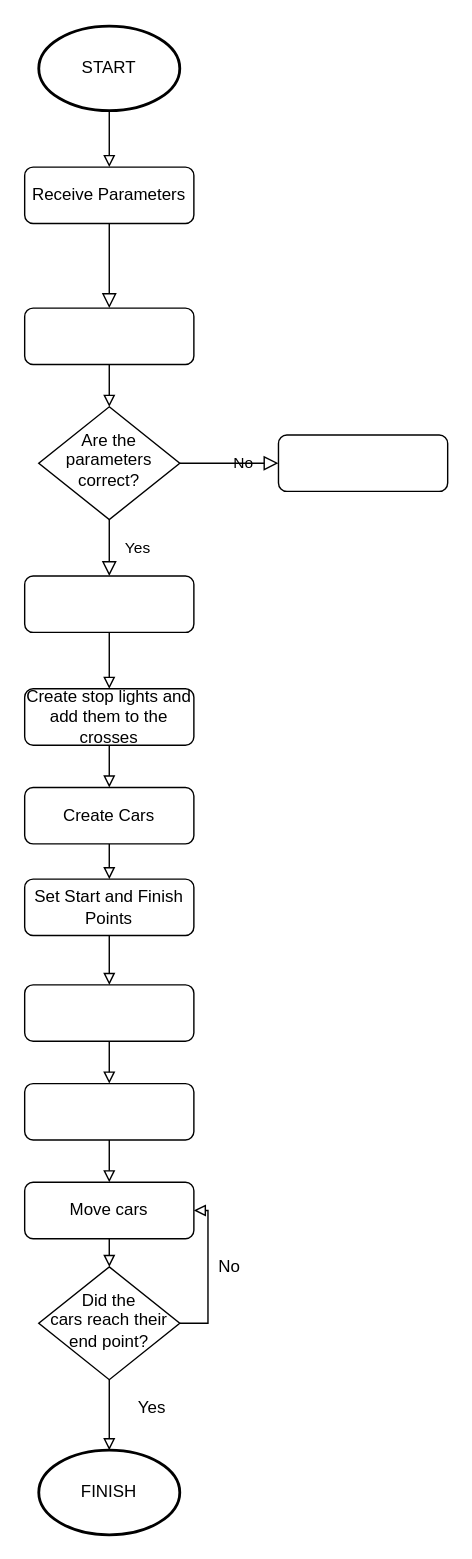
This 472x1559 diagram has some shape labels left out. The box of each missing label's shape, as (x1, y1, x2, y2) in pixels:
Create City Map: (23, 307, 194, 364)
Determine which parts of the city are crosses: (23, 575, 194, 632)
Get Paths: (23, 983, 194, 1041)
Start Simulation: (23, 1082, 194, 1140)
Throw error essage: (277, 434, 448, 491)
